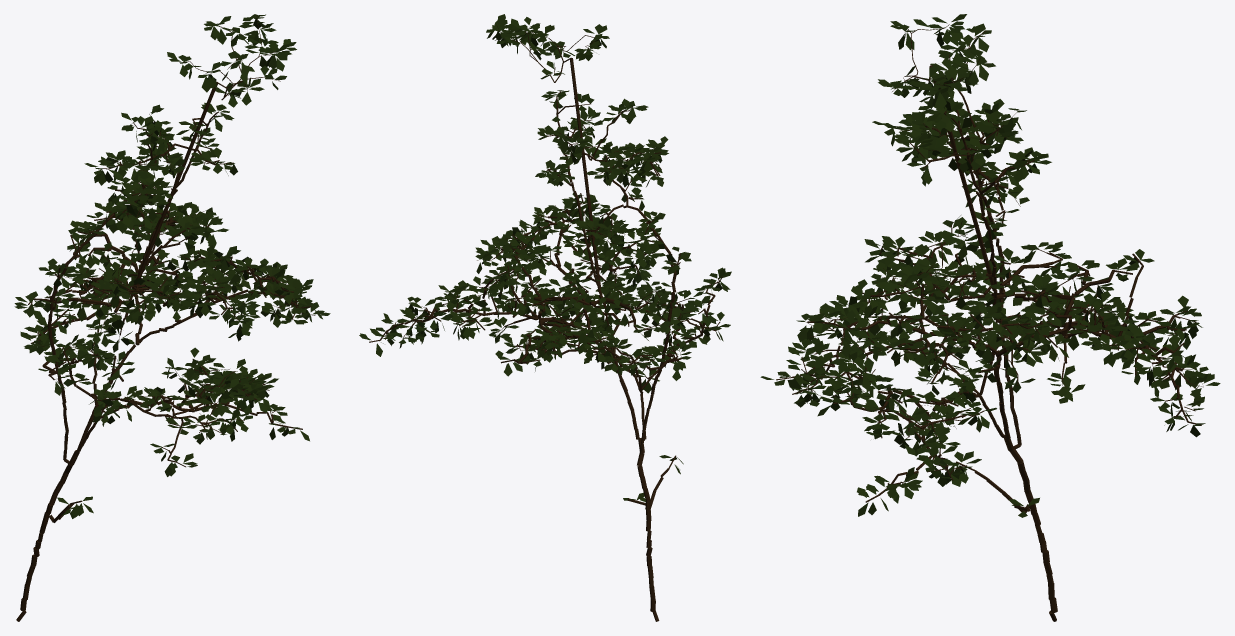
The model's file is 2022_tree_288.obj.
The picture shows the model from 3 angles, left to right: view 1: azimuth 30°, elevation 25°; view 2: azimuth 150°, elevation 25°; view 3: azimuth 270°, elevation 25°; orthographic projection. The views are drawn at different scales.
Visible parts, largest first — view 1: Leaves, TrunkAndBranches; view 2: Leaves, TrunkAndBranches; view 3: Leaves, TrunkAndBranches.
Boxes of the visible parts, bbox=[...] form: Leaves: bbox=[14, 14, 330, 518]; TrunkAndBranches: bbox=[16, 15, 315, 621]; Leaves: bbox=[359, 14, 731, 501]; TrunkAndBranches: bbox=[369, 24, 722, 621]; Leaves: bbox=[760, 14, 1220, 517]; TrunkAndBranches: bbox=[776, 24, 1203, 621].
Bounding box in the file's own units: 5.82 × 11.89 × 7.2.
